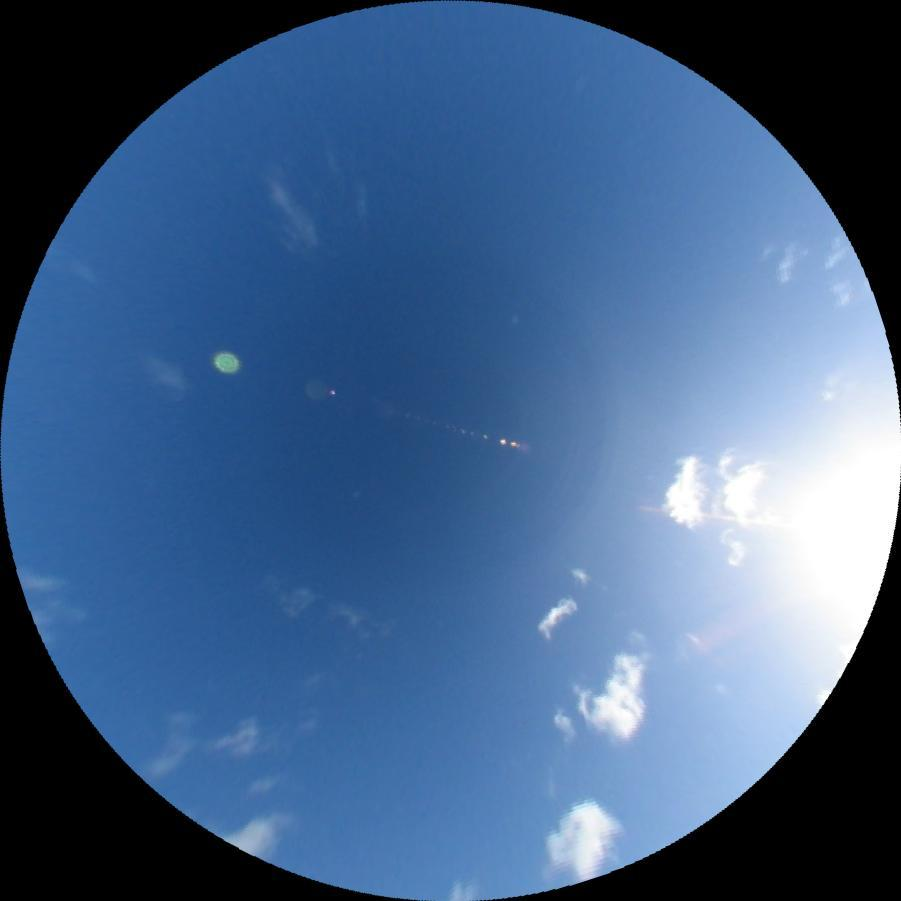parasite: (632, 501, 791, 528)
sun: (768, 433, 901, 649)
